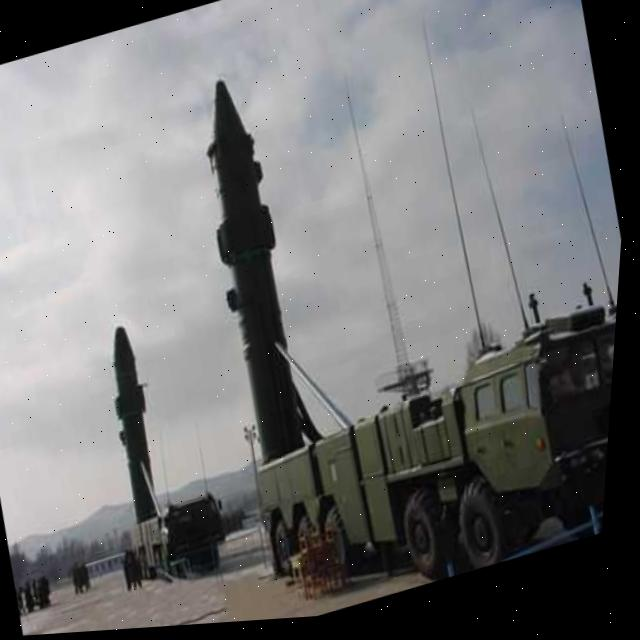missile: (168, 68, 347, 472), (94, 319, 188, 529)
